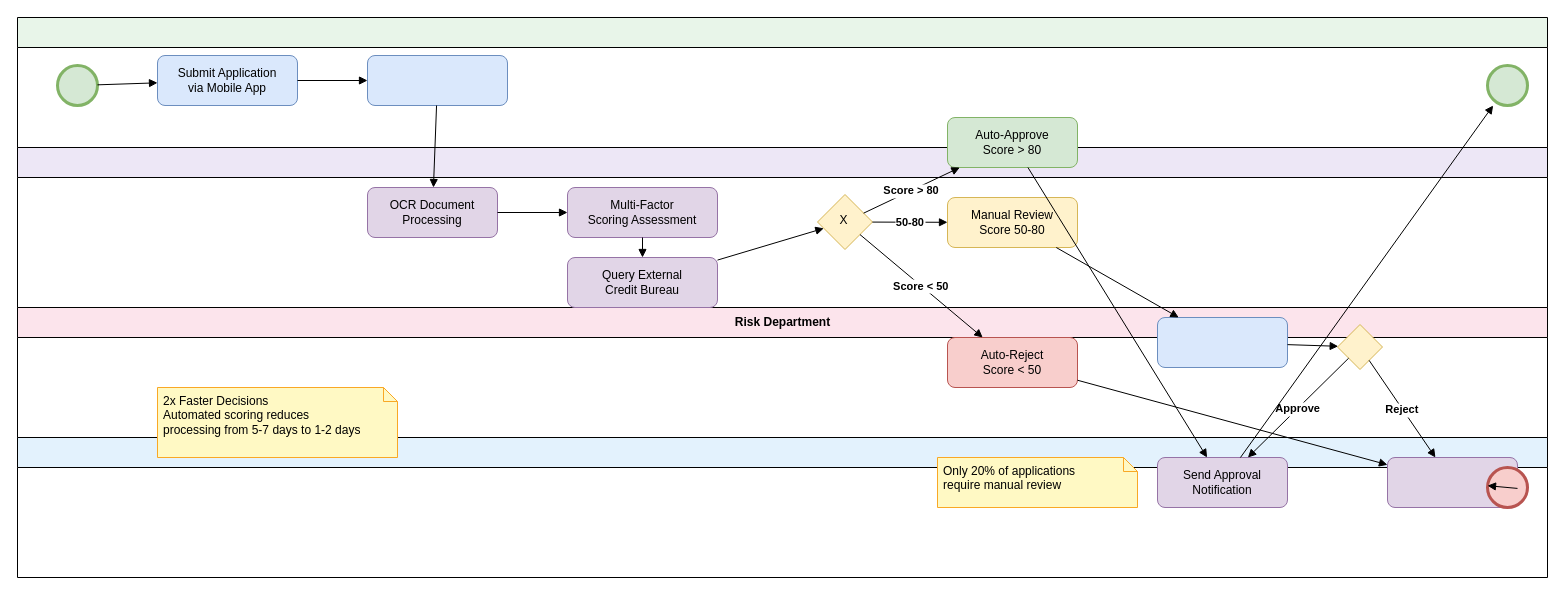
Some shapes in this 1565 by 595 pixel diagram are drawn without their labels. Here are the shapes that lost their labels. From the top down, the box of each, then its label:
(366, 54, 508, 106): Upload Documents (Photo/Scan)
(16, 16, 1548, 148): Customer (Mobile App)
(16, 146, 1548, 308): Scoring Engine
(1156, 316, 1288, 368): Risk Analyst Reviews Case
(1386, 456, 1518, 508): Send Rejection Notification
(16, 436, 1548, 578): CRM System
